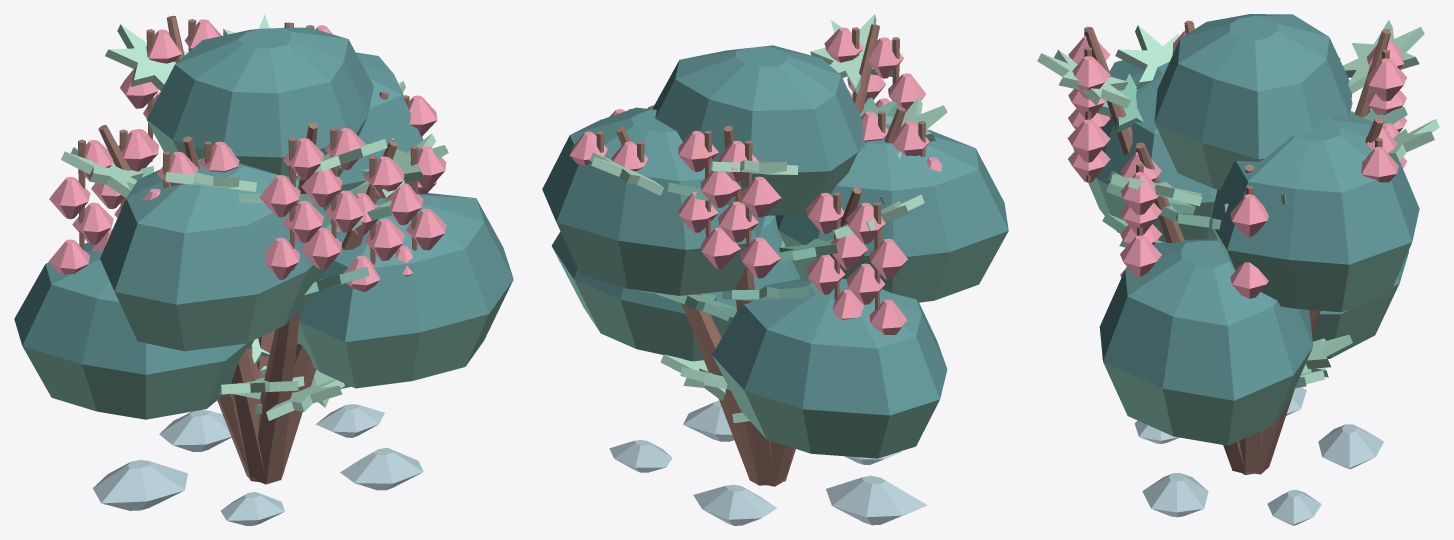
File: lagoon_shrub_red_flowering_currant.glb
3 renders of one model, left to right at view 1: azimuth 30°, elevation 25°; view 2: azimuth 150°, elevation 25°; view 3: azimuth 270°, elevation 25°, orthographic. The views are drawn at different scales.
Parts seen in each view (by area): view 1: lagoon_shrub_red_flowering_currant.001; view 2: lagoon_shrub_red_flowering_currant.001; view 3: lagoon_shrub_red_flowering_currant.001.
Part boxes in pixels (x1=…): lagoon_shrub_red_flowering_currant.001: x1=14, y1=14, x2=513, y2=525; lagoon_shrub_red_flowering_currant.001: x1=542, y1=14, x2=1008, y2=525; lagoon_shrub_red_flowering_currant.001: x1=1037, y1=14, x2=1439, y2=525.
Bounding box in the file's own units: 2.65 × 2.55 × 2.07.
